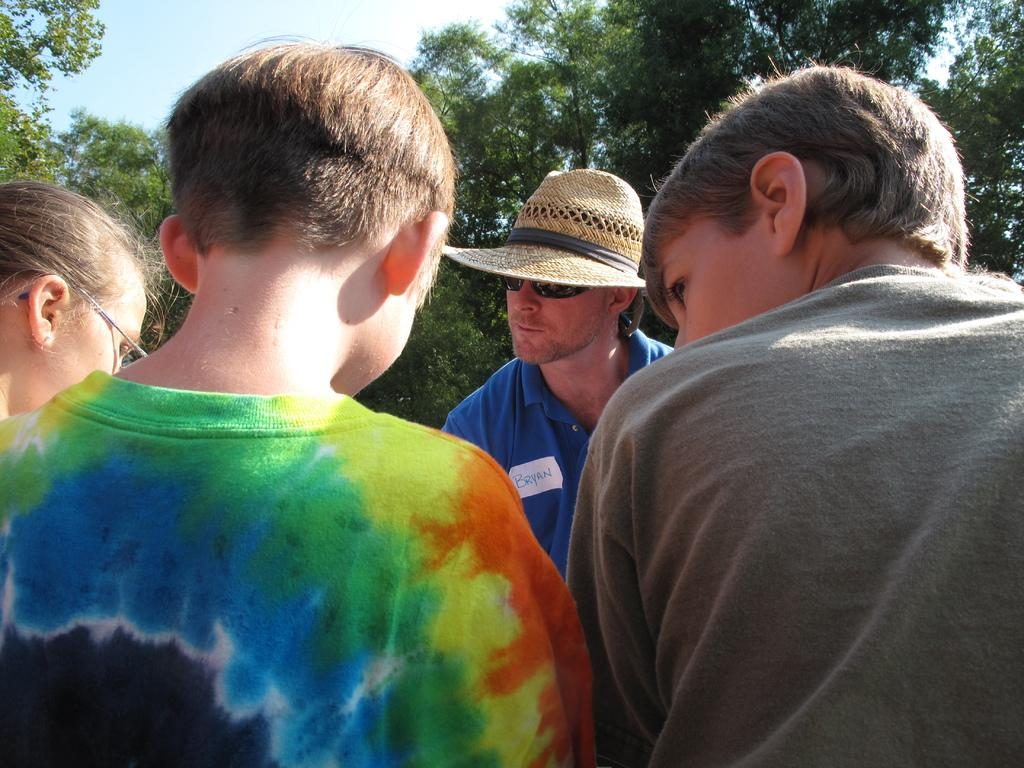Hat: (441, 166, 652, 290)
